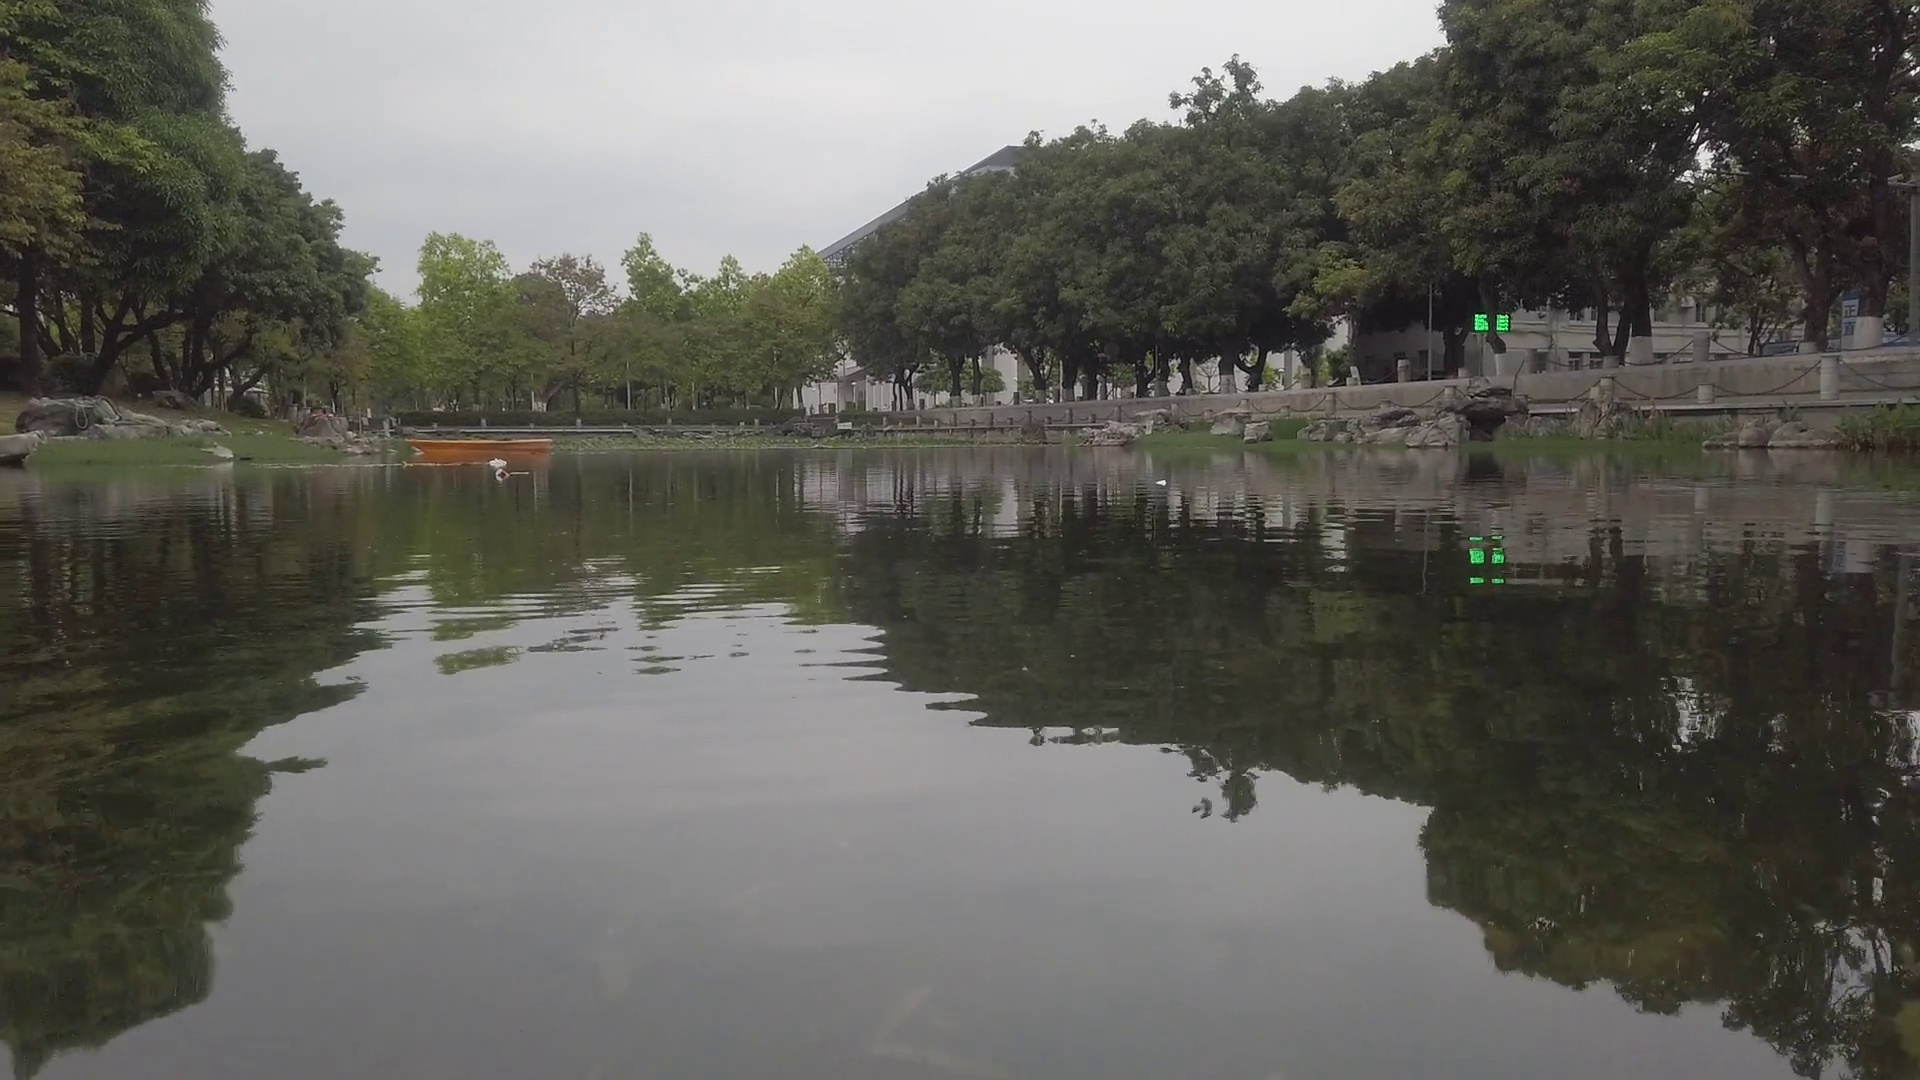bottle: (498, 469, 506, 477)
paper: (1153, 473, 1168, 491)
plastic: (491, 458, 509, 467)
